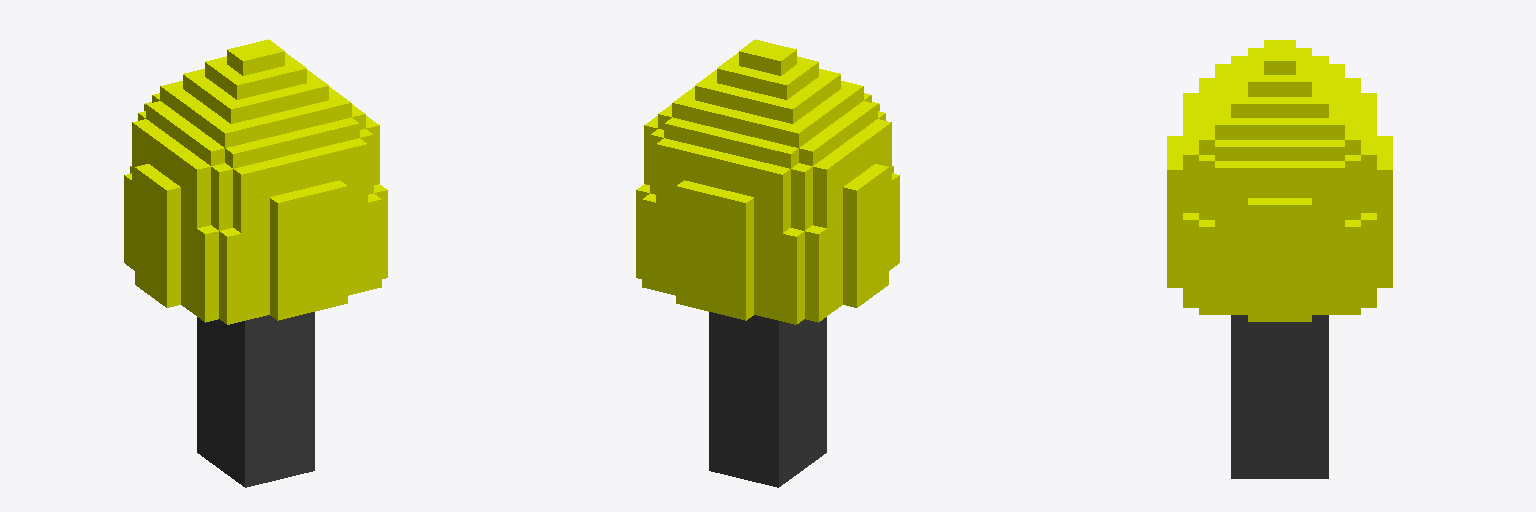
3 renders of one model, left to right at view 1: azimuth 30°, elevation 25°; view 2: azimuth 150°, elevation 25°; view 3: azimuth 270°, elevation 25°, orthographic.
Bounding box in the file's own units: 15 × 28 × 14.
Materials: 1 (1 with a texture image).